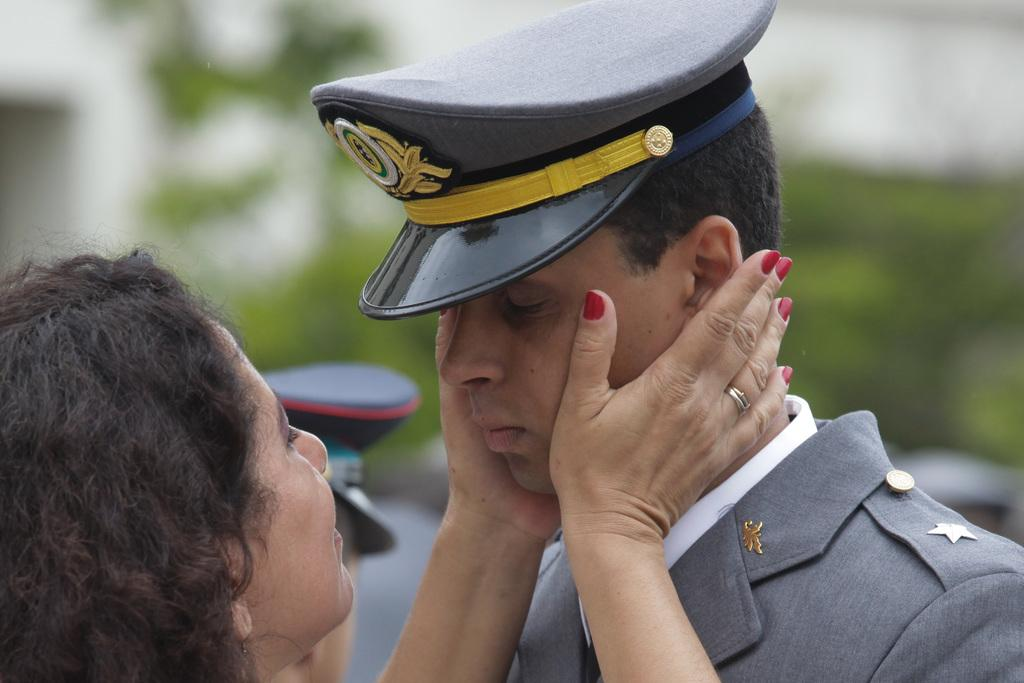Hat: (304, 0, 778, 321), (260, 364, 424, 558)
